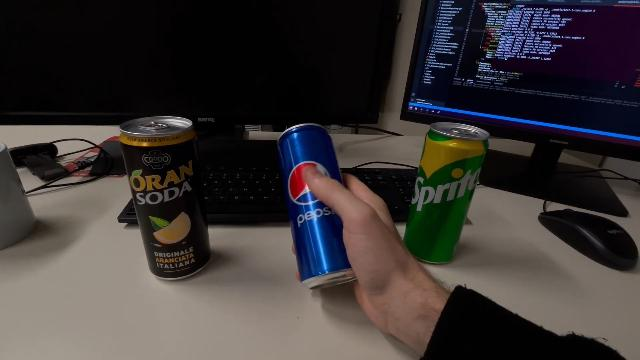OranSoda: (118, 113, 212, 284)
Pepsi: (277, 120, 359, 294)
Sprite: (402, 118, 491, 268)
